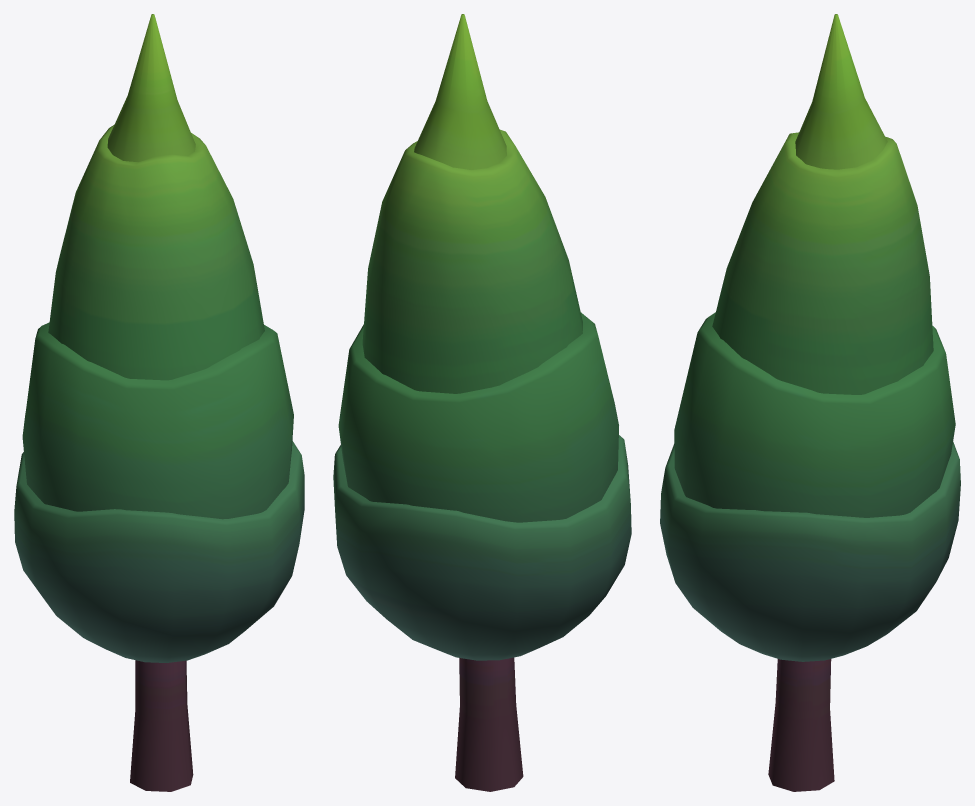
File: Tree_4.fbx
3 views of the same model, side by side, from view 1: azimuth 30°, elevation 25°; view 2: azimuth 150°, elevation 25°; view 3: azimuth 270°, elevation 25° (orthographic). The views are drawn at different scales.
Visible parts, largest first — view 1: Tree_4; view 2: Tree_4; view 3: Tree_4.
Part boxes in pixels (x1,y1,x2,y2): Tree_4: (14,14,304,791); Tree_4: (333,14,631,791); Tree_4: (660,14,960,791).
Bounding box in the file's own units: 146 × 412 × 147.
